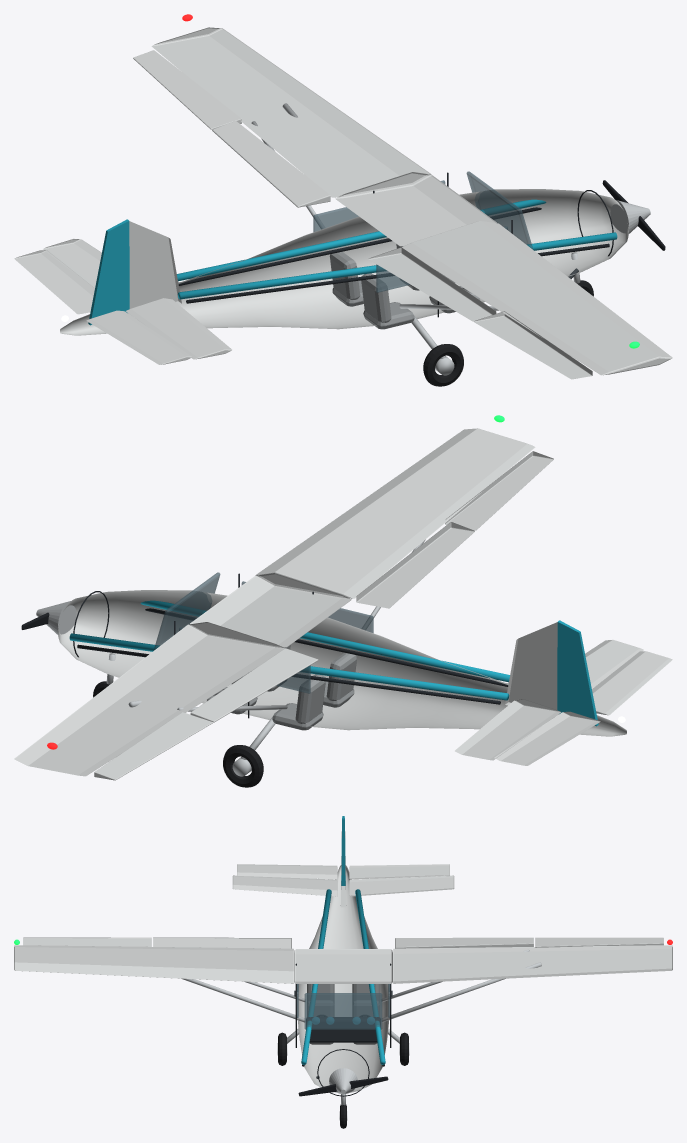
Rendered from ft172-trainer.glb.
The picture shows the model from 3 angles, top to bottom: view 1: azimuth 30°, elevation 25°; view 2: azimuth 150°, elevation 25°; view 3: azimuth 270°, elevation 25°; orthographic projection. The views are drawn at different scales.
Parts seen in each view (by area): view 1: Fuselage, Wing_L_Forward, Wing_R_Forward, Wing_Center, VerticalStabilizer, Flap_L_Surface, Flap_R_Surface, Stabilizer_R, Rudder_Surface, Aileron_L_Surface, Aileron_R_Surface, Elevator_R_Surface (+13 smaller); view 2: Fuselage, Wing_R_Forward, Wing_L_Forward, Wing_Center, VerticalStabilizer, Flap_R_Surface, Flap_L_Surface, Stabilizer_L, Rudder_Surface, Aileron_R_Surface, Aileron_L_Surface, Elevator_L_Surface (+13 smaller); view 3: Wing_R_Forward, Wing_L_Forward, Fuselage, Wing_Center, Windshield, Stabilizer_L, Stabilizer_R, InstrumentPanel, Flap_L_Surface, Flap_R_Surface, Elevator_R_Surface, Elevator_L_Surface (+8 smaller).
Boxes of the visible parts, x1,y1,x2,y2 form: Fuselage: (60, 189, 628, 335); Wing_L_Forward: (151, 27, 430, 197); Wing_R_Forward: (402, 221, 672, 375); Wing_Center: (335, 172, 496, 246); VerticalStabilizer: (128, 221, 181, 315); Flap_L_Surface: (212, 121, 330, 207); Flap_R_Surface: (368, 247, 496, 321); Stabilizer_R: (125, 298, 231, 359); Rudder_Surface: (88, 219, 129, 325); Aileron_L_Surface: (133, 50, 241, 129); Aileron_R_Surface: (473, 311, 592, 379); Elevator_R_Surface: (86, 310, 192, 364); Fuselage: (58, 590, 626, 736); Wing_R_Forward: (256, 428, 535, 598); Wing_L_Forward: (14, 622, 284, 776); Wing_Center: (190, 573, 351, 647); VerticalStabilizer: (505, 622, 558, 716); Flap_R_Surface: (356, 522, 474, 608); Flap_L_Surface: (190, 648, 318, 722); Stabilizer_L: (455, 699, 561, 760); Rudder_Surface: (557, 620, 598, 726); Aileron_R_Surface: (445, 451, 553, 530); Aileron_L_Surface: (94, 712, 213, 780); Elevator_L_Surface: (494, 711, 600, 765); Wing_R_Forward: (14, 945, 294, 983); Wing_L_Forward: (392, 945, 672, 983); Fuselage: (297, 865, 389, 1092); Wing_Center: (294, 949, 392, 983); Windshield: (304, 993, 382, 1029); Stabilizer_L: (349, 875, 454, 896); Stabilizer_R: (232, 875, 337, 896); InstrumentPanel: (306, 1017, 380, 1042); Flap_L_Surface: (395, 937, 533, 948); Flap_R_Surface: (153, 937, 291, 948); Elevator_R_Surface: (237, 864, 337, 879); Elevator_L_Surface: (349, 864, 449, 879).
Size of the model in its own units: 8.28 by 2.73 by 11.
